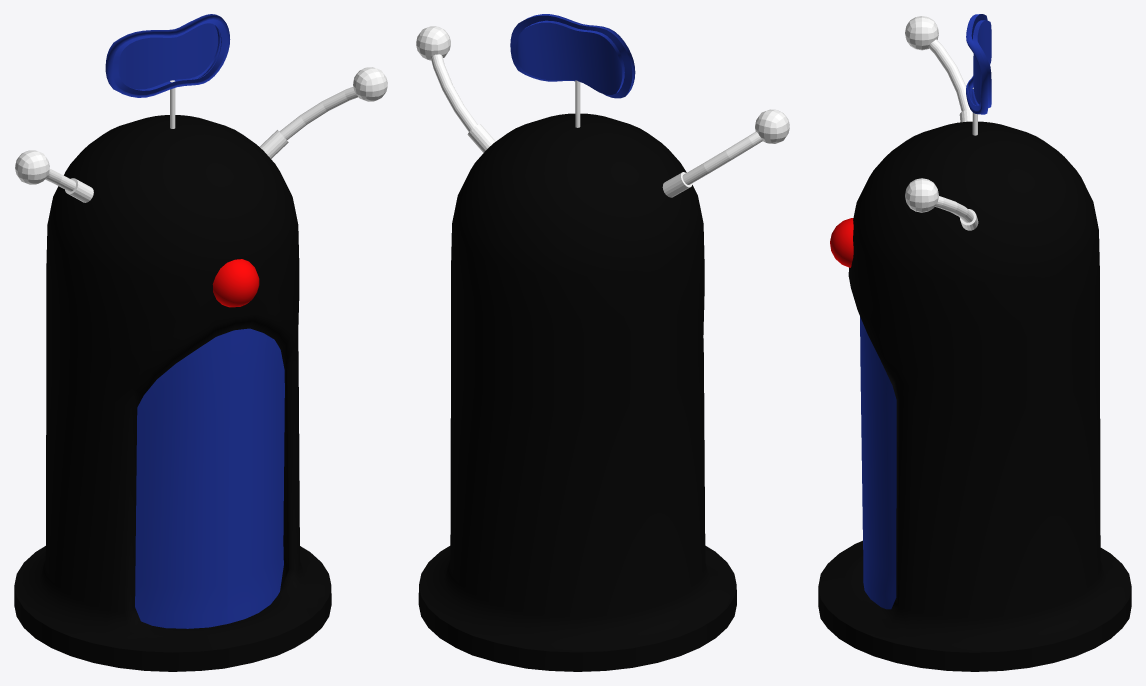
The model's file is Upgradetube test.fbx.
3 views of the same model, side by side, from view 1: azimuth 30°, elevation 25°; view 2: azimuth 150°, elevation 25°; view 3: azimuth 270°, elevation 25° (orthographic).
Parts seen in each view (by area): view 1: Capsule002, right Door, Door Right, Goggles, eares, Sphere001; view 2: Capsule002, Goggles, eares; view 3: Capsule002, Door Right, eares, Goggles, Sphere001.
Part boxes in pixels (bbox=[...]): Capsule002: bbox=[14, 115, 331, 671]; right Door: bbox=[135, 331, 230, 628]; Door Right: bbox=[227, 328, 284, 623]; Goggles: bbox=[105, 14, 230, 97]; eares: bbox=[15, 67, 387, 202]; Sphere001: bbox=[212, 259, 259, 307]; Capsule002: bbox=[418, 113, 736, 671]; Goggles: bbox=[510, 14, 635, 98]; eares: bbox=[416, 26, 789, 197]; Capsule002: bbox=[818, 121, 1131, 671]; Door Right: bbox=[860, 317, 896, 609]; eares: bbox=[905, 16, 978, 230]; Goggles: bbox=[966, 14, 991, 114]; Sphere001: bbox=[830, 218, 853, 267].
Size of the model in its own units: 261 by 394 by 195.
